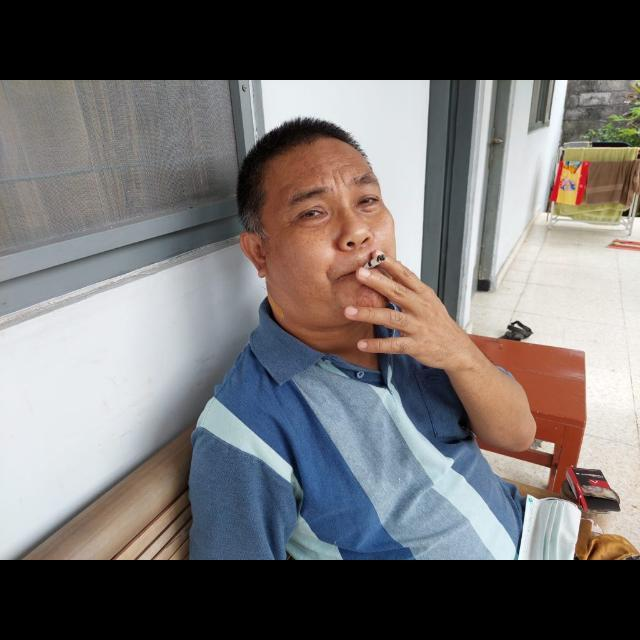rokok: (364, 250, 386, 270)
